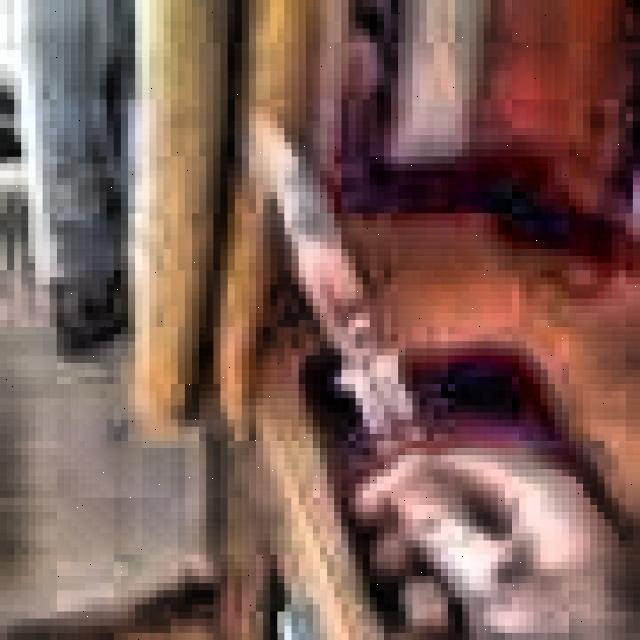knife: (249, 114, 483, 640)
